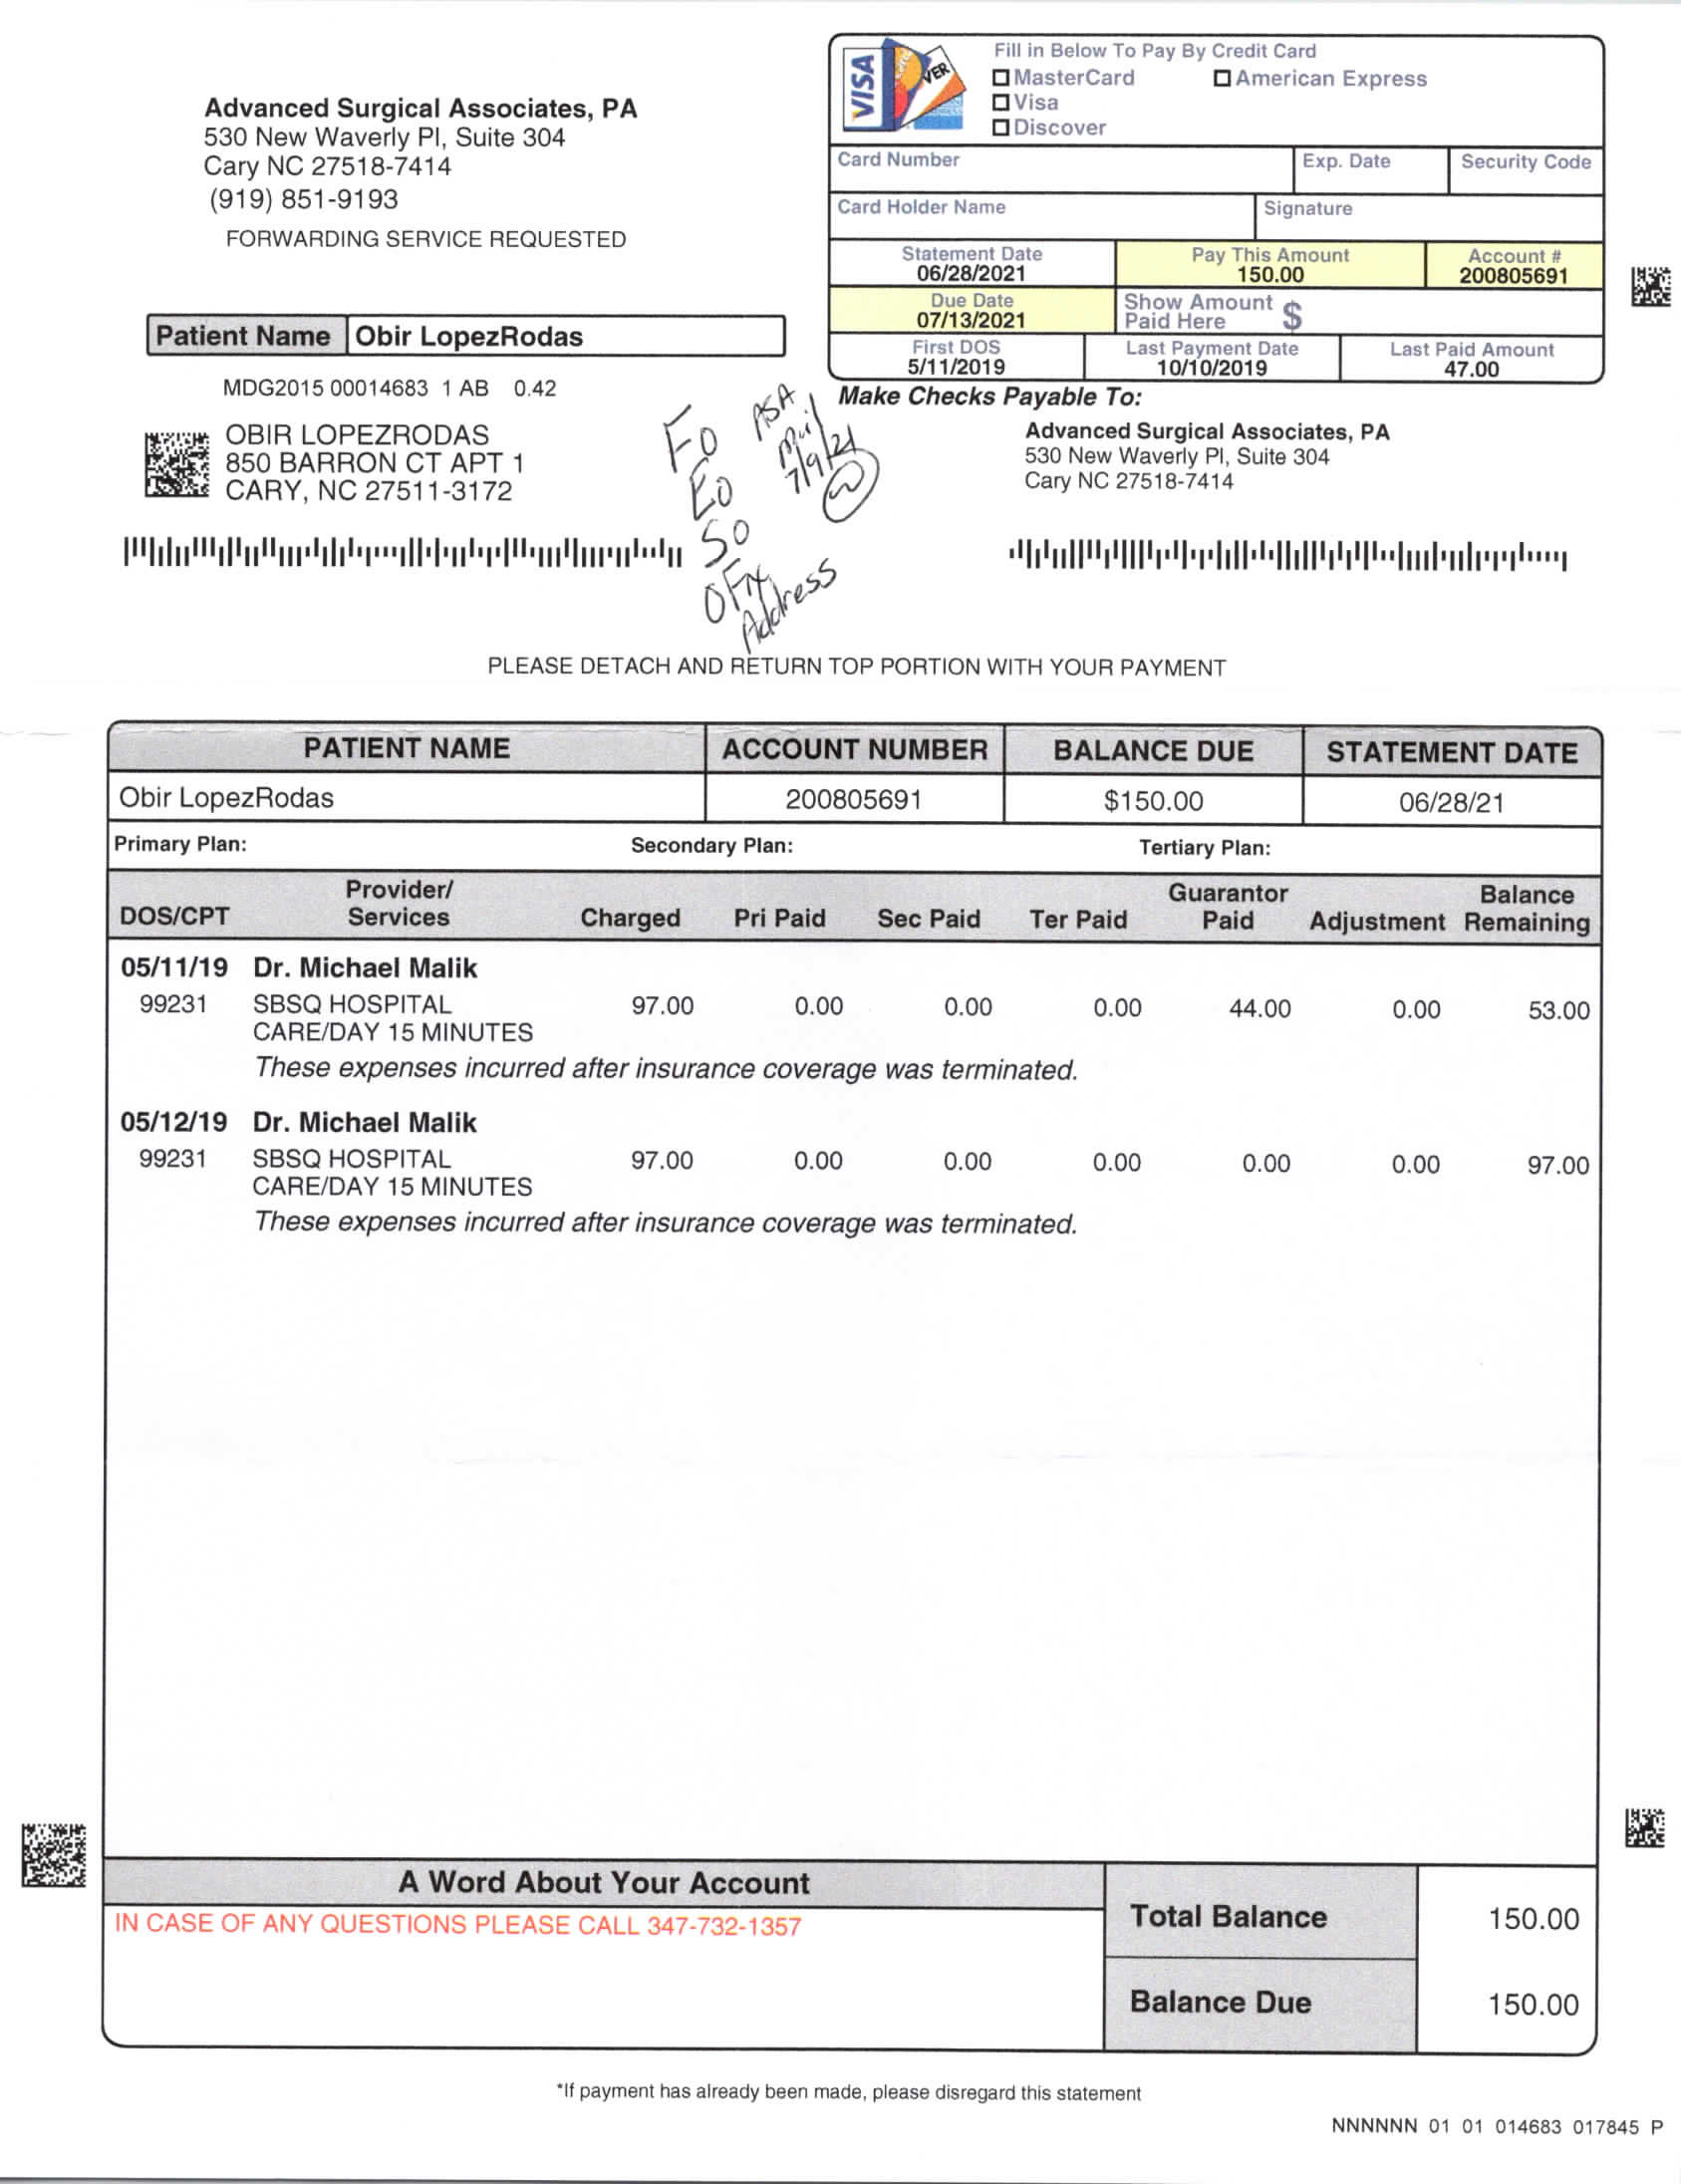table: (87, 869, 1619, 1257), (83, 703, 1619, 849)
